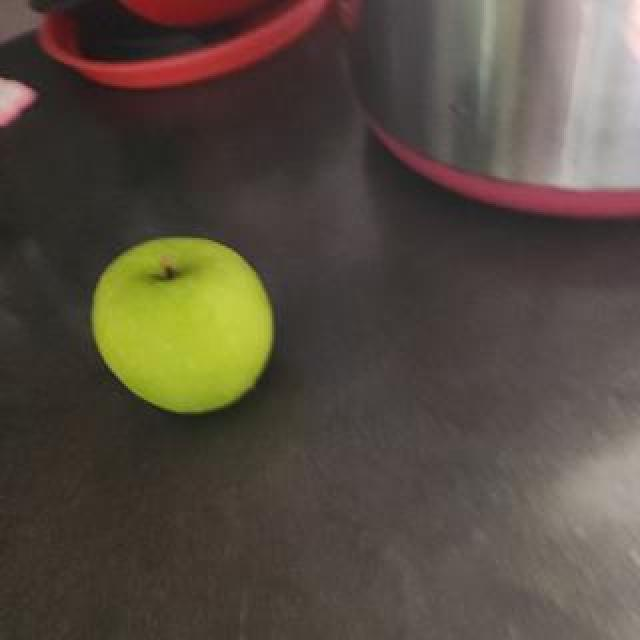Fresh Apple: (83, 235, 277, 425)
